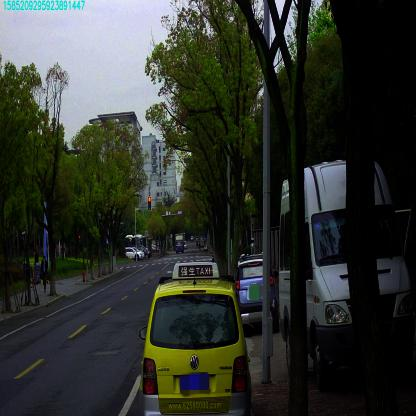traffic-light: (148, 196, 151, 211)
